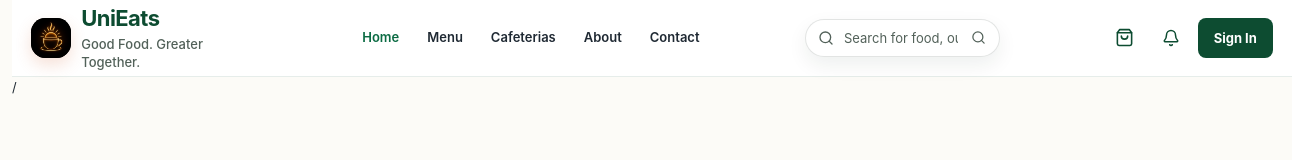
it: UniEats navigation › sends header searches to the real shop discovery route
The image size is (1292, 160).
Type "paneer" into the field named "Search for food or outlets" at (901, 38), box 844,28 -> 958,48
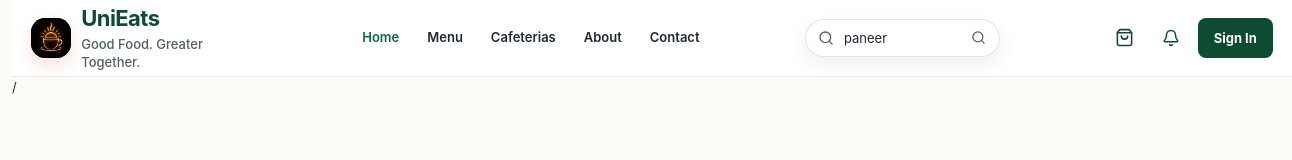
Press Enter
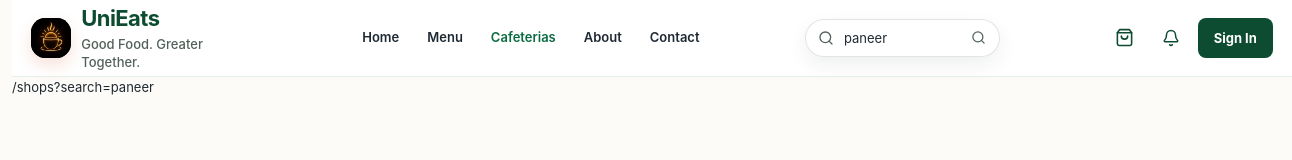
Now the text with test id "location" reads "/shops?search=paneer", box 12,79 -> 154,95
